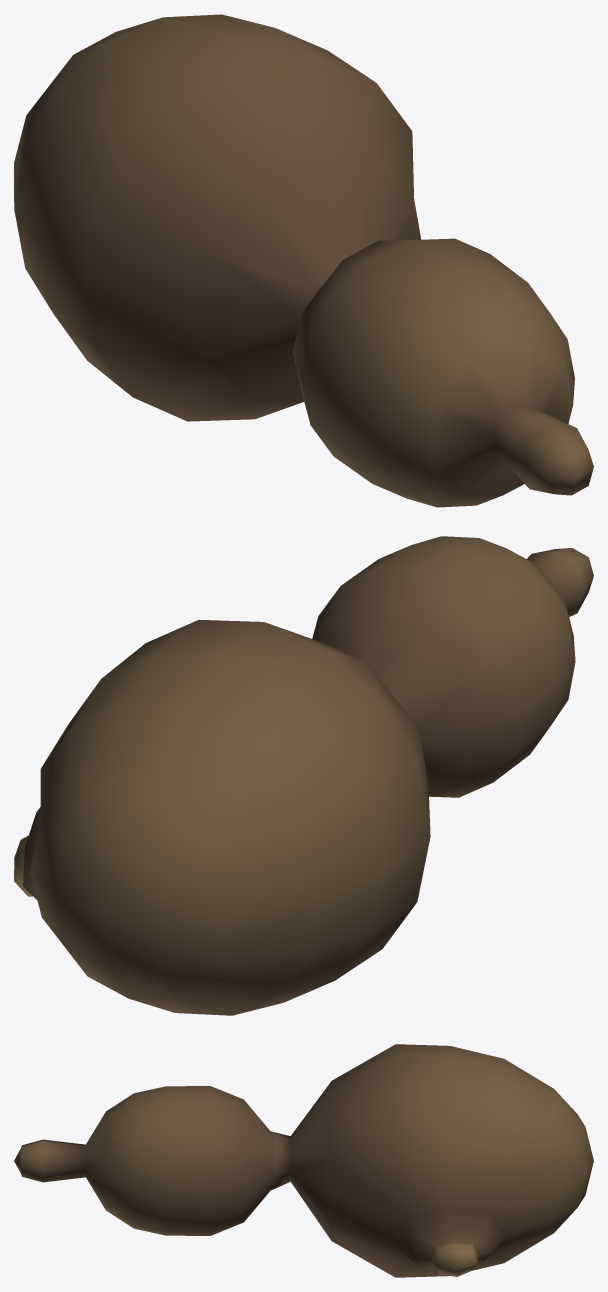
File: microscopic-cells-yeast-cell_v2.glb
3 views of the same model, one above another, from view 1: azimuth 30°, elevation 25°; view 2: azimuth 150°, elevation 25°; view 3: azimuth 270°, elevation 25° (orthographic). The views are drawn at different scales.
Visible parts, largest first — view 1: Yeast Cell_v2; view 2: Yeast Cell_v2; view 3: Yeast Cell_v2.
Boxes of the visible parts, <box> form: Yeast Cell_v2: <box>14,14,593,507</box>; Yeast Cell_v2: <box>14,536,593,1015</box>; Yeast Cell_v2: <box>14,1044,593,1277</box>.
Size of the model in its own units: 0.2213 by 0.2013 by 0.5.
